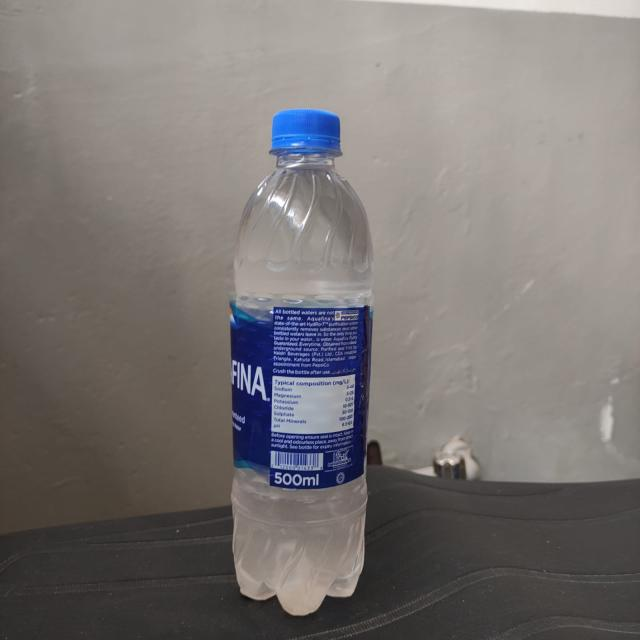bottle: (225, 105, 382, 606)
cap: (267, 105, 347, 166)
label: (232, 311, 374, 493)
